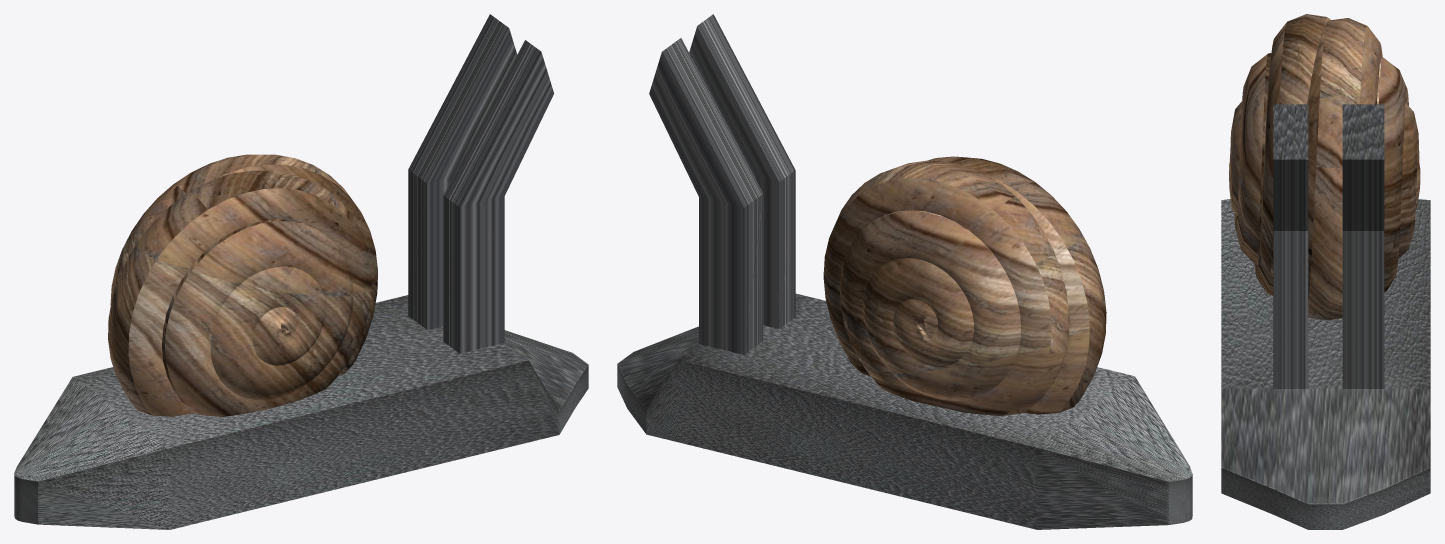
The model's file is Snail.fbx.
3 views of the same model, side by side, from view 1: azimuth 30°, elevation 25°; view 2: azimuth 150°, elevation 25°; view 3: azimuth 270°, elevation 25° (orthographic). The views are drawn at different scales.
Visible parts, largest first — view 1: Box001, Helix002; view 2: Box001, Helix002; view 3: Box001, Helix002.
Boxes of the visible parts, x1=… form: Box001: x1=14, y1=14, x2=588, y2=529; Helix002: x1=108, y1=154, x2=377, y2=416; Box001: x1=617, y1=14, x2=1192, y2=529; Helix002: x1=823, y1=156, x2=1106, y2=416; Box001: x1=1221, y1=104, x2=1430, y2=529; Helix002: x1=1229, y1=14, x2=1420, y2=320.
Bounding box in the file's own units: 25.85 × 15.95 × 7.72.
